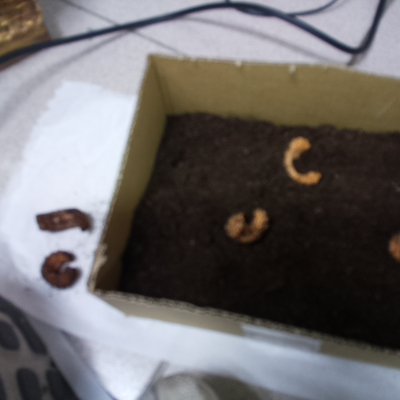eggs: (277, 131, 328, 191), (219, 203, 277, 249), (385, 223, 400, 267)
